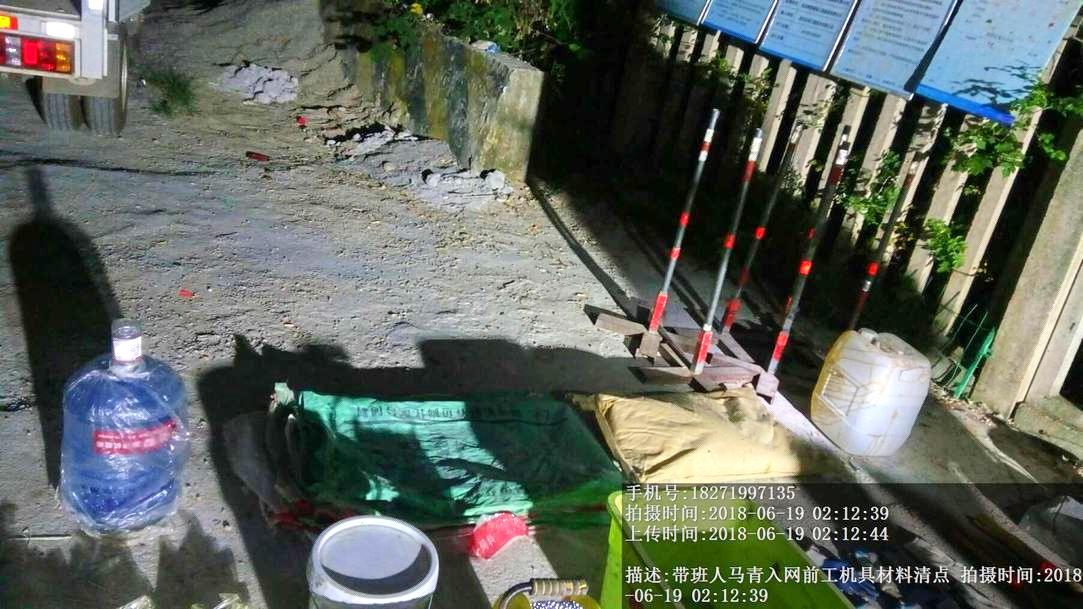BZD: (250, 364, 621, 515), (592, 388, 831, 486)
